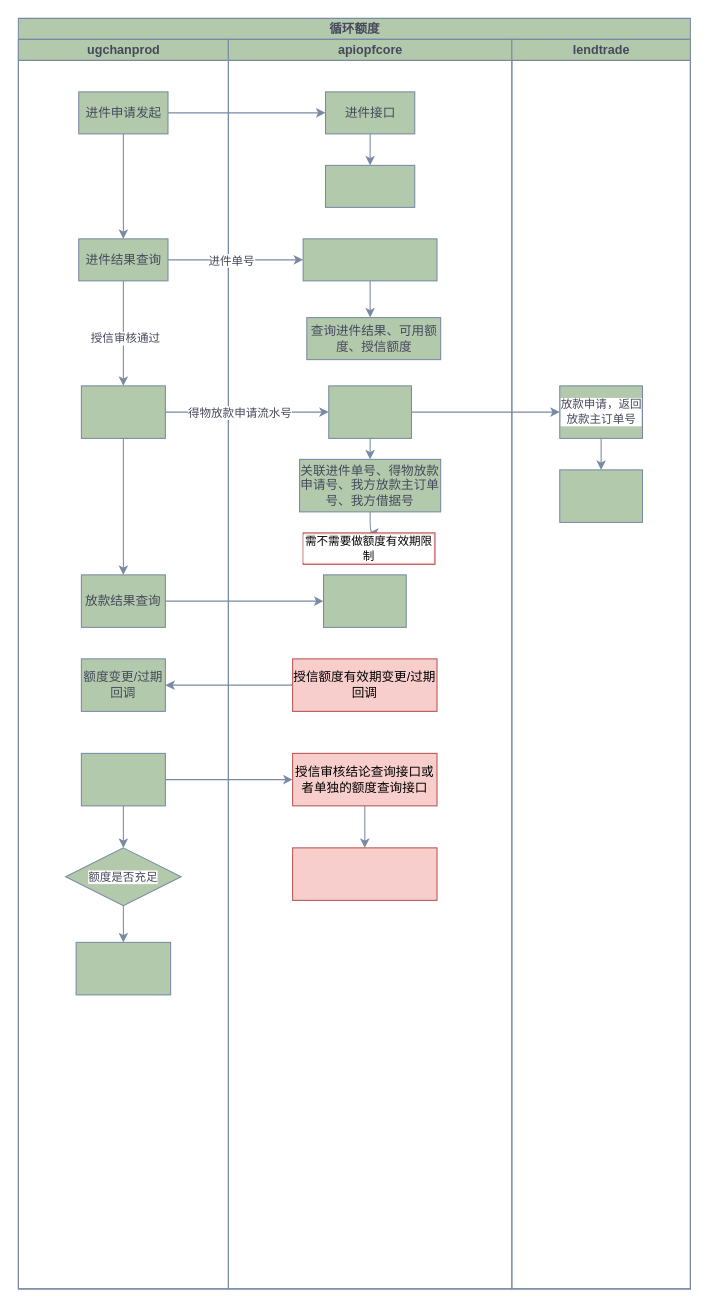
Some shapes in this 709 by 1307 pixel diagram are drawn without their labels. Each missing label, with the centre of its shape:
"保存进件数据、授信审核" belongs at (x=369, y=185).
"审核结论查询接口" belongs at (x=369, y=259).
"放款申请发起" belongs at (x=122, y=411).
"放款申请接口" belongs at (x=369, y=411).
"放款结果查询接口" belongs at (x=364, y=600).
"放款结果消息回到" belongs at (x=600, y=495).
"用户额度查询" belongs at (x=122, y=779).
"需不需要做额度有效期限制，过期了怎么返回" belongs at (x=364, y=873).
